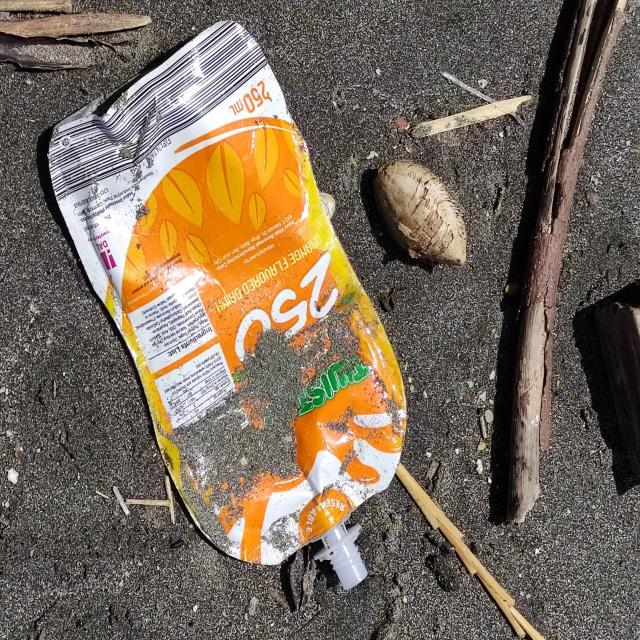plastic_waste: (48, 20, 408, 593)
